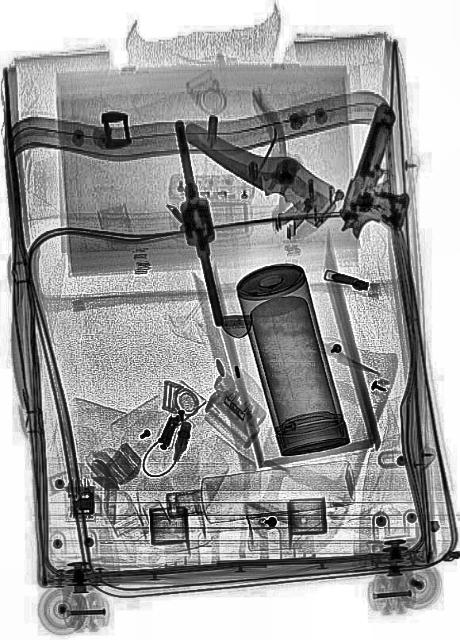Gun: (333, 98, 433, 258)
